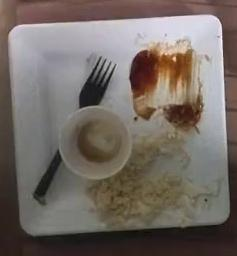lettuce: (90, 134, 207, 229)
